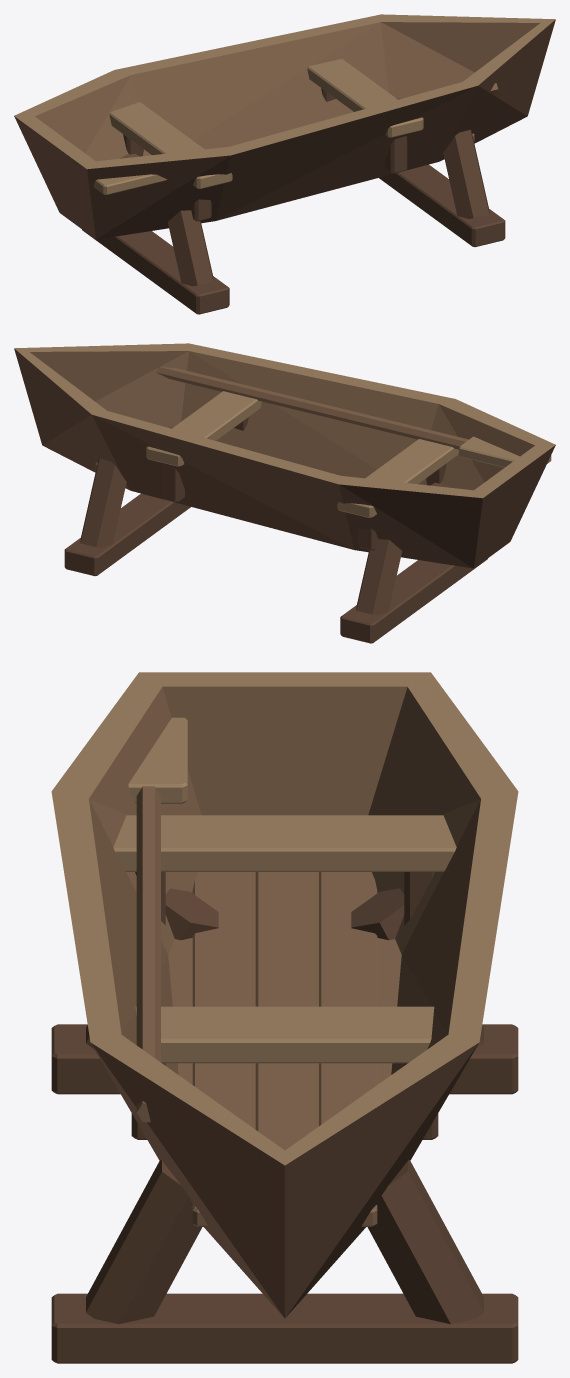
The model's file is boat-on-cradle.glb.
3 renders of one model, top to bottom at view 1: azimuth 30°, elevation 25°; view 2: azimuth 150°, elevation 25°; view 3: azimuth 270°, elevation 25°, orthographic. The views are drawn at different scales.
Visible parts, largest first — view 1: boat-on-cradle__body; view 2: boat-on-cradle__body; view 3: boat-on-cradle__body.
Boxes of the visible parts, x1,y1,x2,y2 form: boat-on-cradle__body: (14,14,555,314); boat-on-cradle__body: (14,343,555,643); boat-on-cradle__body: (51,672,518,1363).
Bounding box in the file's own units: 2.4 × 0.69 × 0.96.
